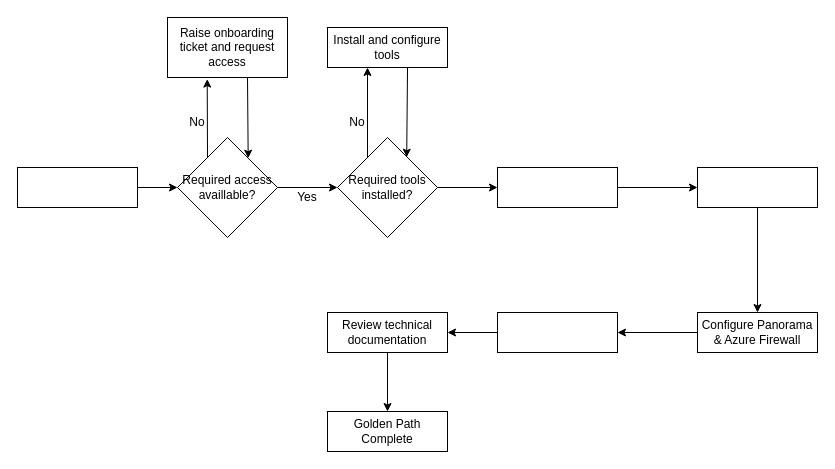
Image size: 835x469. Some labels were removed from this diagram. Here are the shapes that lost their labels. From the top down, the centre of each, then its label:
At (x=77, y=187): "Start Golden Path".
At (x=557, y=187): "Create lab repo and pipeline".
At (x=757, y=187): "Create Virtual Network & deploy VM".
At (x=557, y=332): "Deploy app to existing AKS cluster".
